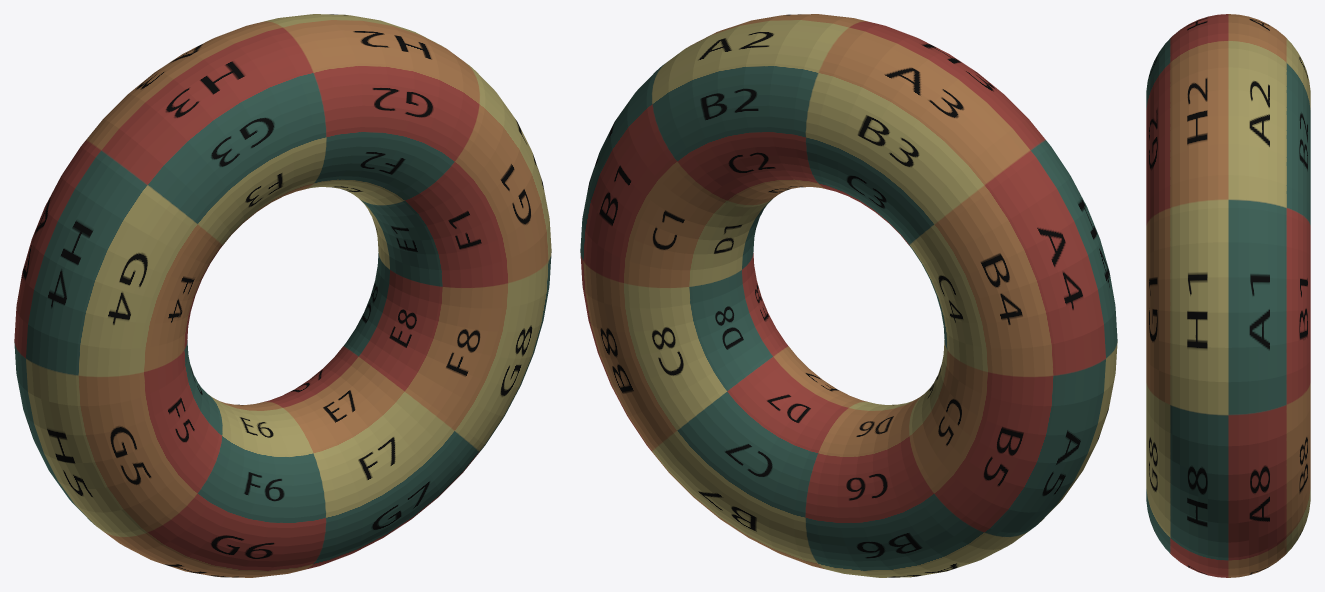
Rendered from texture_torus_R2_r10.glb.
3 renders of one model, left to right at view 1: azimuth 30°, elevation 25°; view 2: azimuth 150°, elevation 25°; view 3: azimuth 270°, elevation 25°, orthographic. The views are drawn at different scales.
Parts seen in each view (by area): view 1: world; view 2: world; view 3: world.
Boxes of the visible parts, x1,y1,x2,y2 form: world: (14,14,551,577); world: (580,14,1117,577); world: (1146,14,1310,577).
Bounding box in the file's own units: 16 × 15.97 × 4.66.
Materials: 1 (1 with a texture image).
